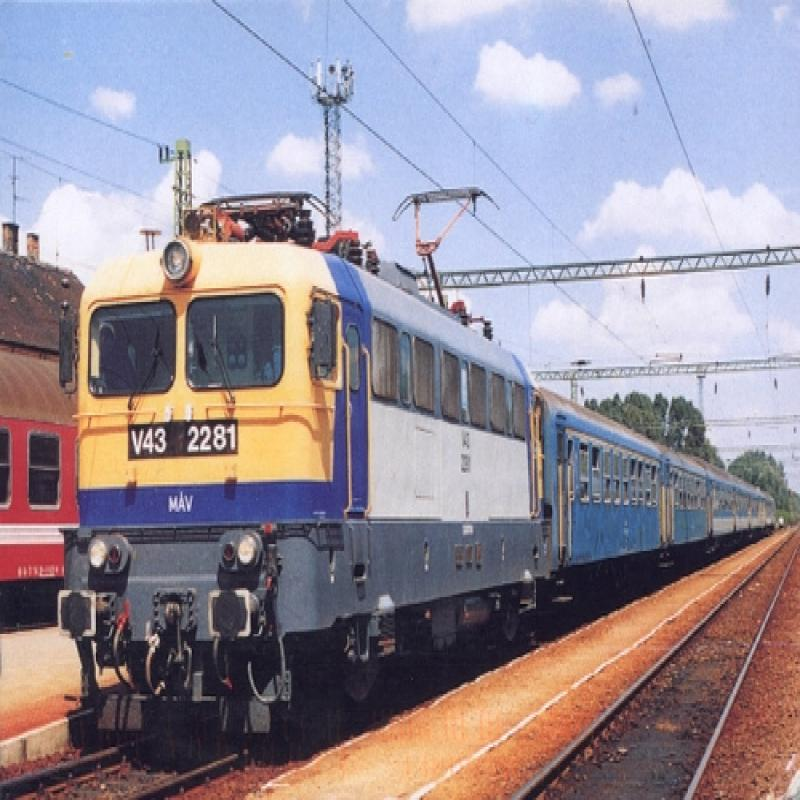train: (54, 236, 779, 750), (3, 391, 81, 614)
